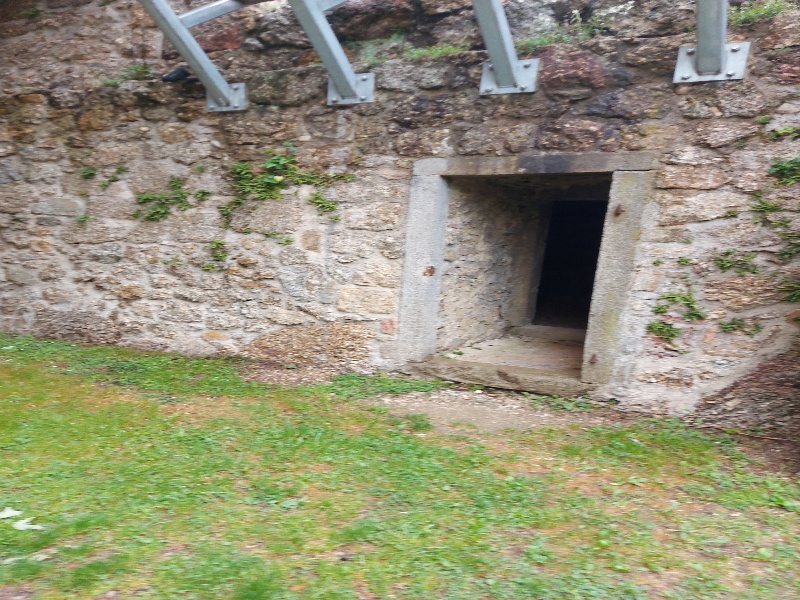door1: (403, 144, 655, 411)
